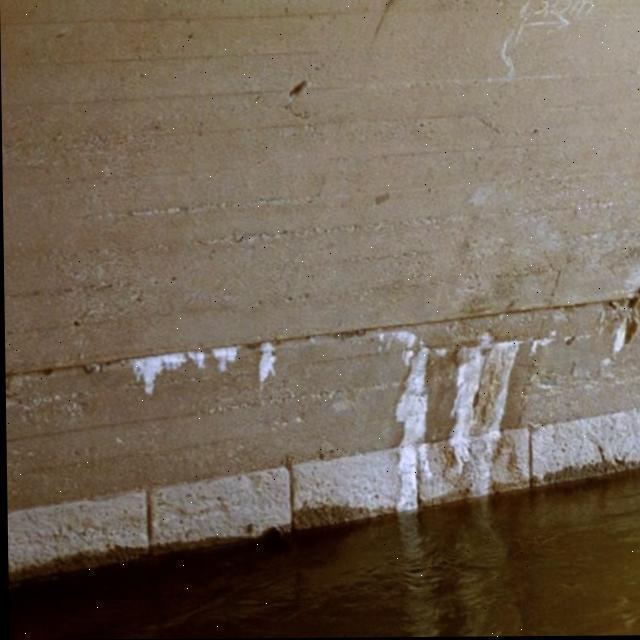D01: (450, 338, 520, 464), (398, 346, 428, 513), (454, 350, 484, 467), (134, 350, 193, 391), (258, 342, 277, 381), (214, 346, 241, 368)
